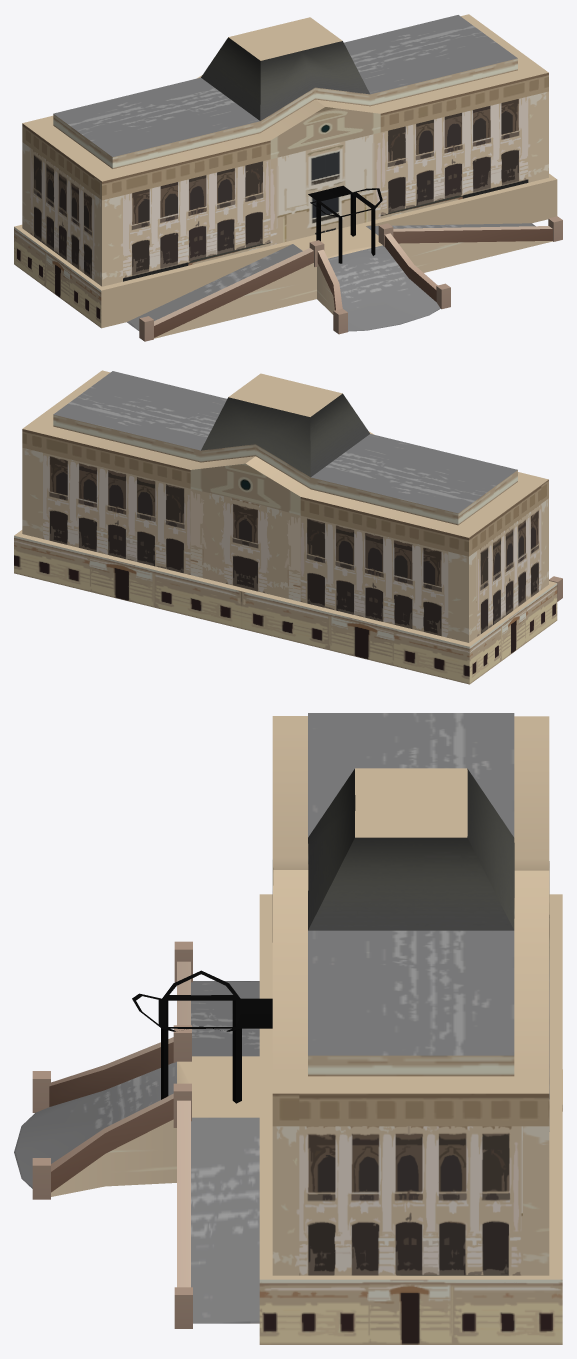
Rendered from SM_Building_ResidentSuperiorPalace_01.fbx.
The picture shows the model from 3 angles, top to bottom: view 1: azimuth 30°, elevation 25°; view 2: azimuth 150°, elevation 25°; view 3: azimuth 270°, elevation 25°; orthographic projection. The views are drawn at different scales.
Visible parts, largest first — view 1: SM_Building_ResidentSuperiorPalace_01; view 2: SM_Building_ResidentSuperiorPalace_01; view 3: SM_Building_ResidentSuperiorPalace_01.
Boxes of the visible parts, x1,y1,x2,y2 form: SM_Building_ResidentSuperiorPalace_01: [14, 14, 562, 341]; SM_Building_ResidentSuperiorPalace_01: [14, 370, 562, 684]; SM_Building_ResidentSuperiorPalace_01: [14, 713, 562, 1344].
Size of the model in its own units: 41.88 by 17.71 by 25.22.
